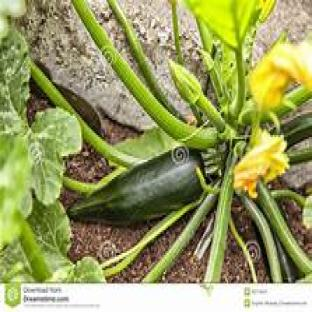Zucchini: (68, 151, 202, 224), (282, 113, 311, 148)
